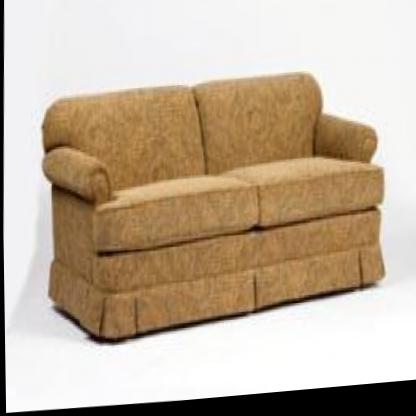Sofa: (36, 64, 390, 356)
